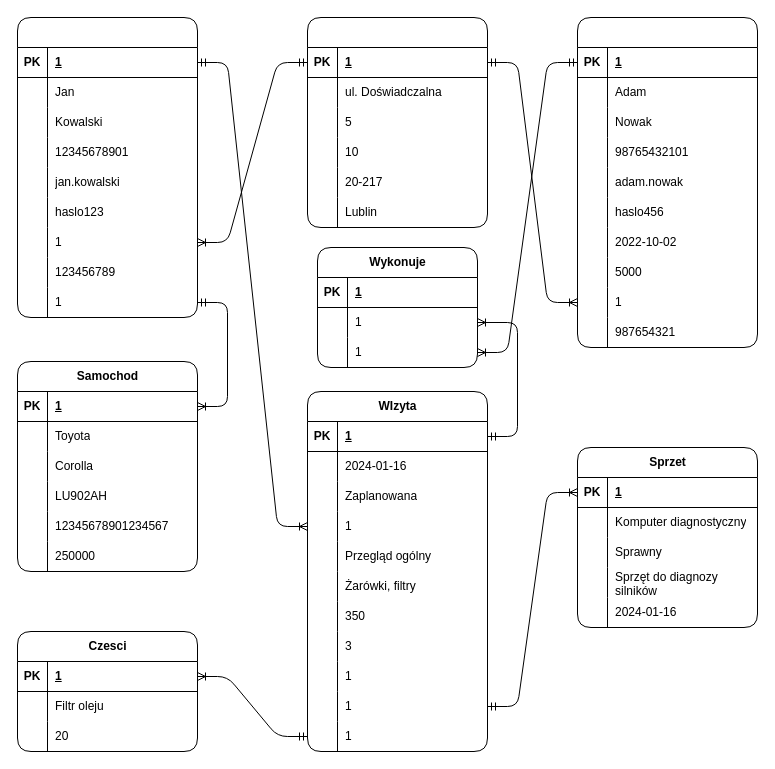
Some shapes in this 775 by 769 pixel diagram are drawn without their labels. The box of each missing label's shape, as (x1, y1, x2, y2) in pixels:
Adres: (306, 16, 488, 228)
Klient: (16, 16, 198, 318)
Mechanik: (576, 16, 758, 348)
